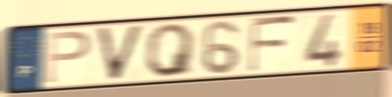4: (303, 11, 345, 69)
6: (200, 18, 243, 77)
F: (246, 14, 299, 75)
P: (43, 29, 93, 86)
Q: (144, 21, 199, 80)
V: (93, 22, 148, 84)
